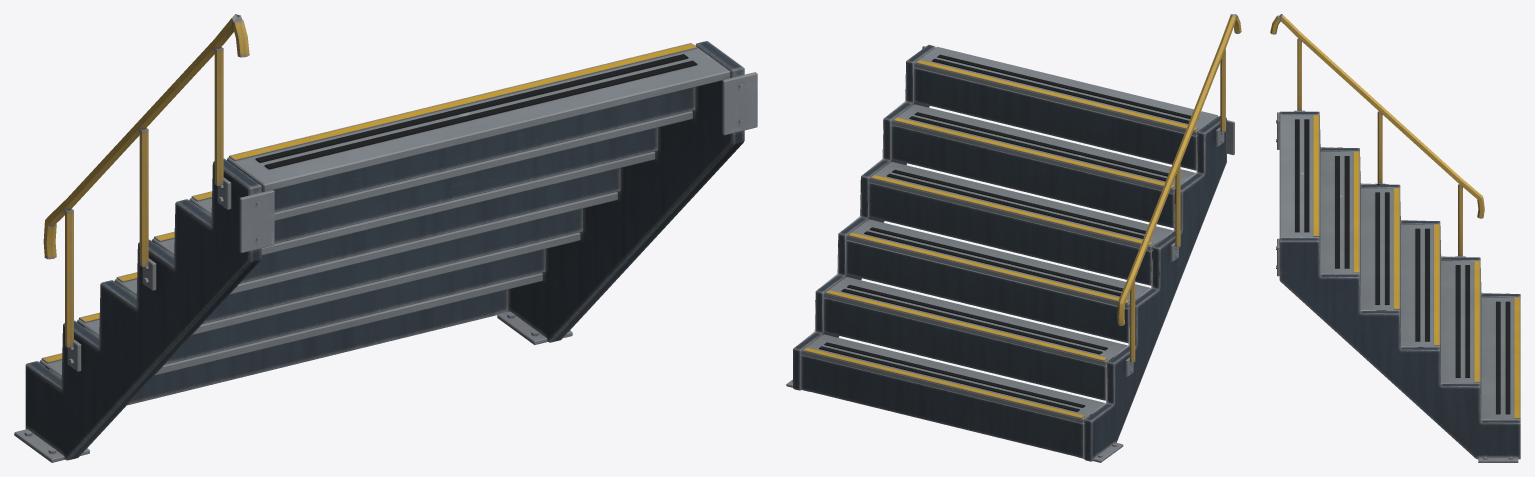
The model's file is escalera_publica.fbx.
The picture shows the model from 3 angles, left to right: view 1: azimuth 30°, elevation 25°; view 2: azimuth 150°, elevation 25°; view 3: azimuth 270°, elevation 25°; orthographic projection. The views are drawn at different scales.
Parts seen in each view (by area): view 1: escalera_publica; view 2: escalera_publica; view 3: escalera_publica.
Boxes of the visible parts, x1,y1,x2,y2 form: escalera_publica: (14, 14, 757, 462); escalera_publica: (786, 14, 1241, 462); escalera_publica: (1270, 14, 1520, 462).
Bounding box in the file's own units: 4.04 × 4.29 × 3.12.
Materials: 1 (1 with a texture image).
